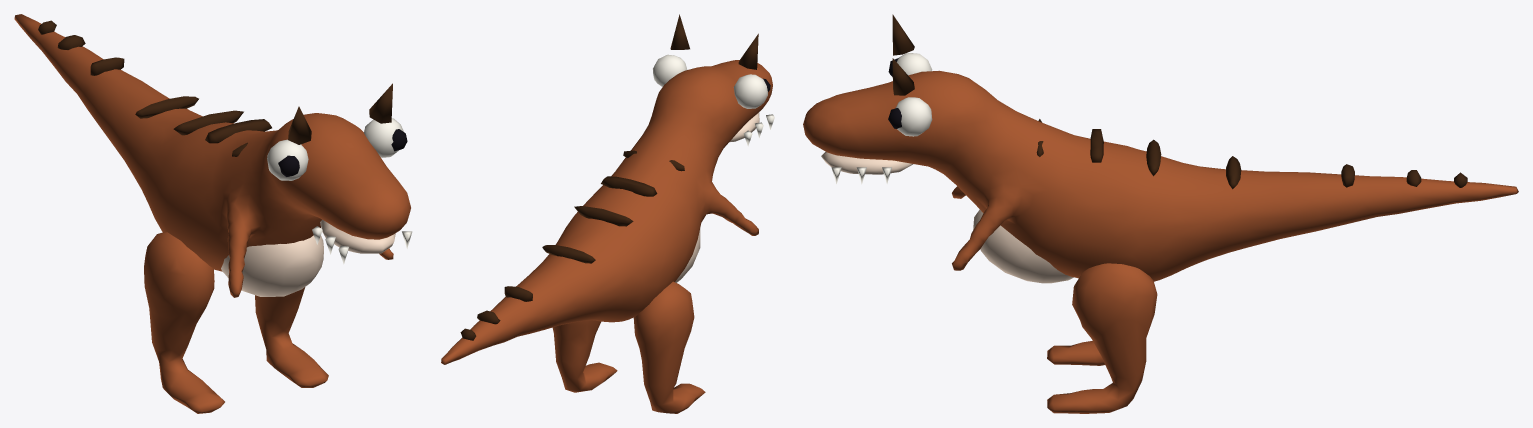
Rendered from Dino_Allosaurus.fbx.
The picture shows the model from 3 angles, left to right: view 1: azimuth 30°, elevation 25°; view 2: azimuth 150°, elevation 25°; view 3: azimuth 270°, elevation 25°; orthographic projection. The views are drawn at different scales.
Parts seen in each view (by area): view 1: Body, LegL, Belly, Accent, LegR, EyeWhite, Pupil; view 2: Body, LegL, Accent, LegR, EyeWhite, Belly; view 3: Body, LegR, Belly, Accent, EyeWhite, LegL.
Boxes of the visible parts, left/top/right/bottom form: Body: left=14, top=14, right=410, bottom=297; LegL: left=144, top=232, right=224, bottom=413; Belly: left=221, top=220, right=395, bottom=296; Accent: left=38, top=20, right=392, bottom=156; LegR: left=255, top=287, right=328, bottom=387; EyeWhite: left=267, top=118, right=412, bottom=264; Pupil: left=278, top=129, right=407, bottom=176; Body: left=441, top=60, right=772, bottom=364; LegL: left=633, top=281, right=705, bottom=413; Accent: left=460, top=14, right=758, bottom=340; LegR: left=552, top=320, right=617, bottom=392; EyeWhite: left=653, top=54, right=774, bottom=146; Belly: left=675, top=112, right=759, bottom=282; Body: left=803, top=70, right=1518, bottom=281; LegR: left=1047, top=263, right=1157, bottom=413; Belly: left=821, top=151, right=1073, bottom=283; Accent: left=892, top=14, right=1467, bottom=189; EyeWhite: left=831, top=53, right=932, bottom=184; LegL: left=1047, top=341, right=1104, bottom=365.
Bounding box in the file's own units: 2.01 × 4.41 × 8.17.
